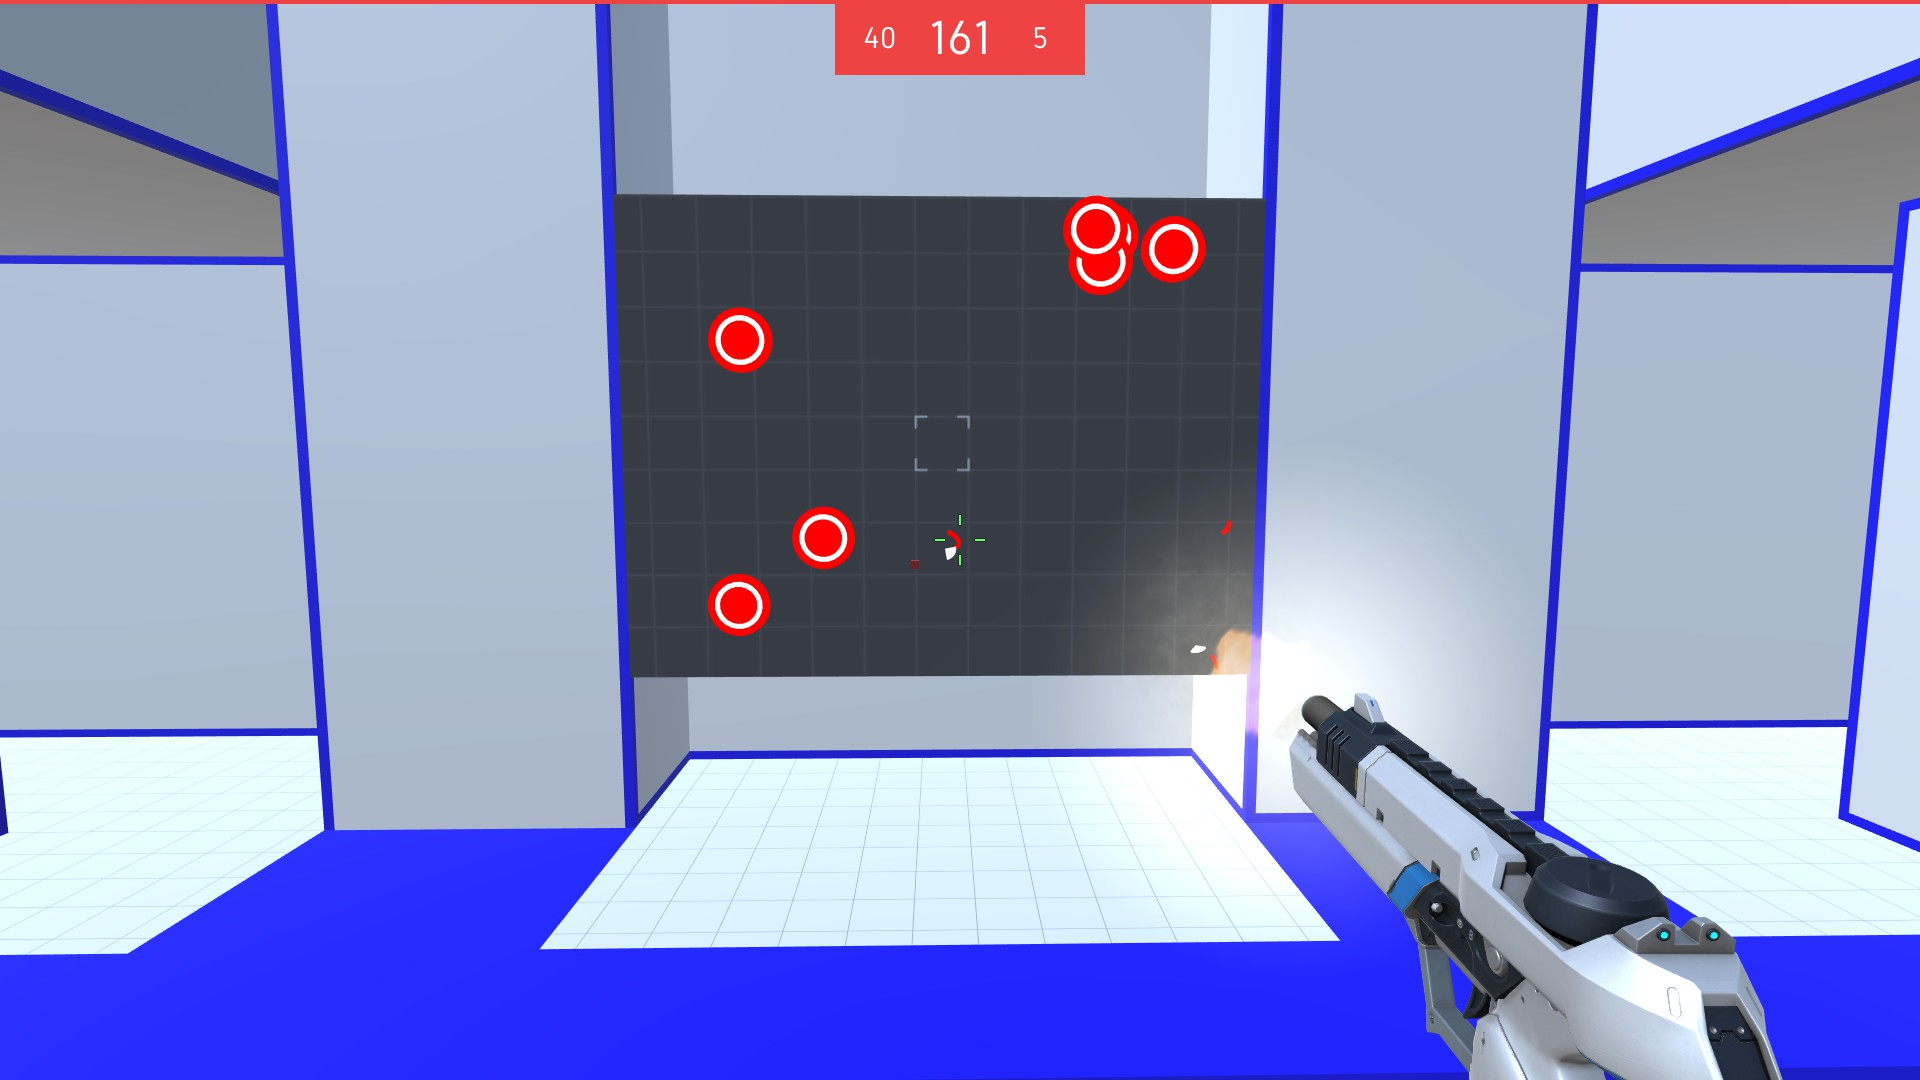target: (705, 306, 777, 375), (1141, 218, 1207, 287), (789, 504, 856, 570), (707, 570, 771, 634), (1062, 196, 1126, 257), (1069, 237, 1133, 298)
